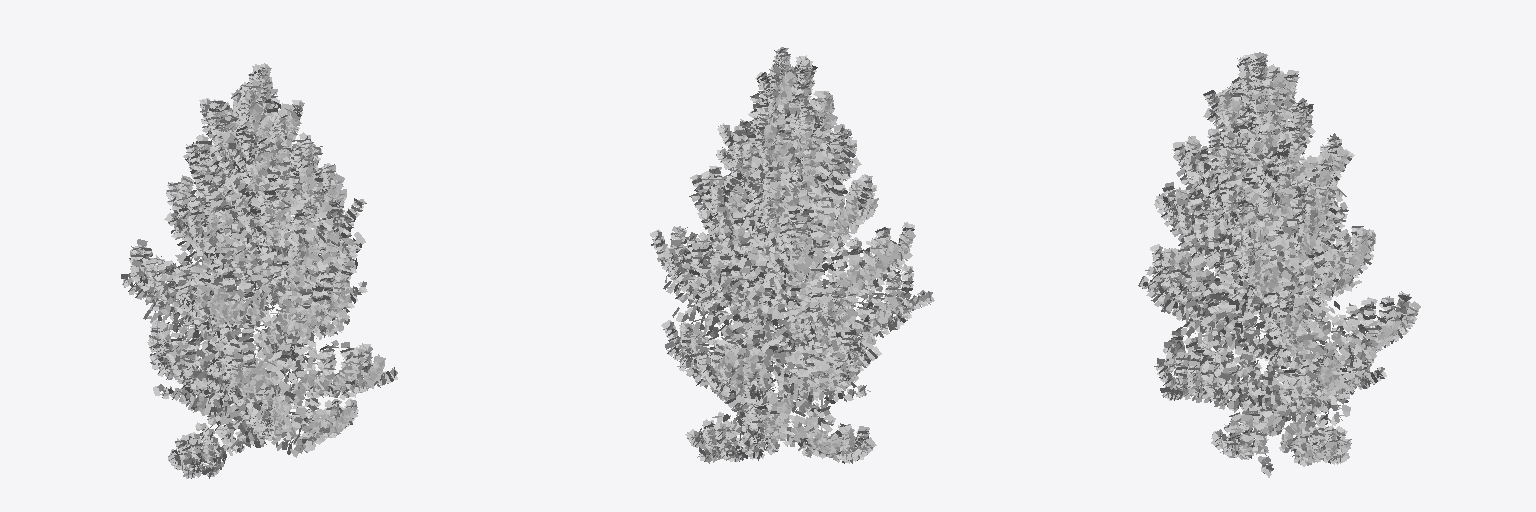
Rendered from tree_leaves.obj.
3 views of the same model, side by side, from view 1: azimuth 30°, elevation 25°; view 2: azimuth 150°, elevation 25°; view 3: azimuth 270°, elevation 25° (orthographic).
Visible parts, largest first — view 1: leaves.002_leaves.003; view 2: leaves.002_leaves.003; view 3: leaves.002_leaves.003.
Part boxes in pixels (x1,y1,x2,y2): leaves.002_leaves.003: (121, 63, 397, 478); leaves.002_leaves.003: (650, 47, 934, 463); leaves.002_leaves.003: (1138, 52, 1420, 477).
Size of the model in its own units: 7.72 by 13.21 by 8.44.